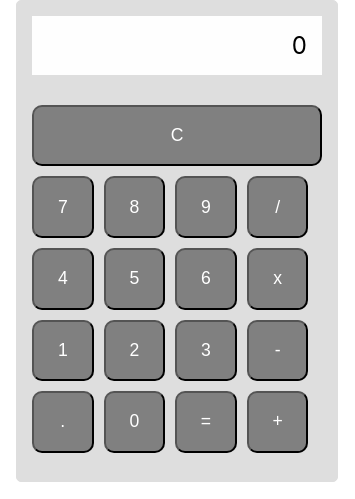
Test case: Calculator › should have working in exceptional circumstances
Step 1. Click the button with id "number2" → (135, 351), box [104,320,166,382]
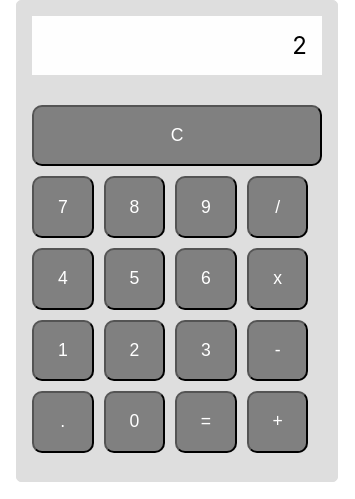
Step 2. Click the button with id "operator_divide" → (278, 207), box [247,176,309,238]
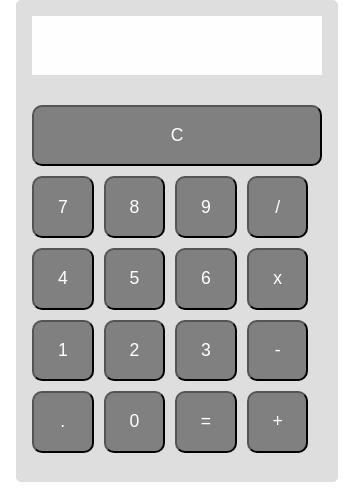
Step 3. Click the button with id "number0" → (135, 422), box [104,391,166,453]
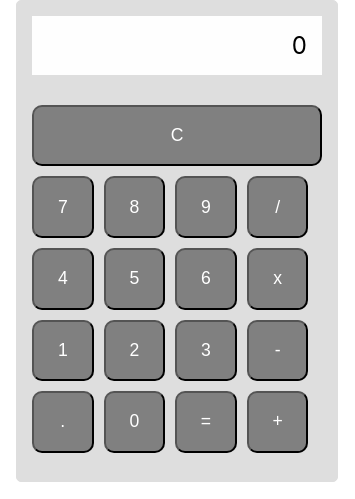
Step 4. Click the button with id "operator_equals" → (206, 422), box [175,391,237,453]
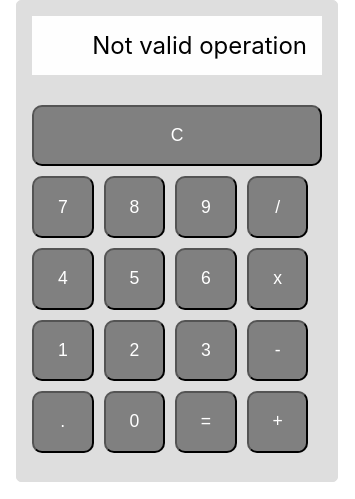
Expected: the text with class "display" reads "Not valid operation", [92,31,307,60]
